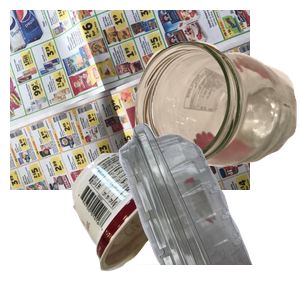glass: (132, 38, 300, 199)
paper: (10, 10, 250, 190)
plastic: (71, 120, 300, 300)
trash: (70, 149, 254, 300)
